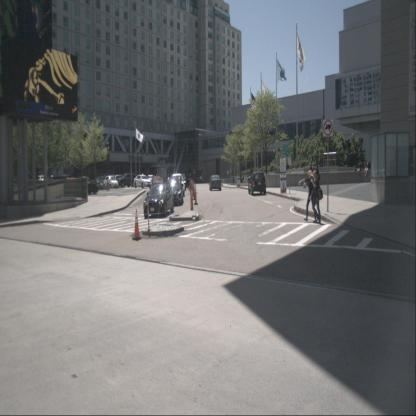cone: (132, 209, 142, 241), (189, 189, 195, 213), (194, 185, 198, 206)
